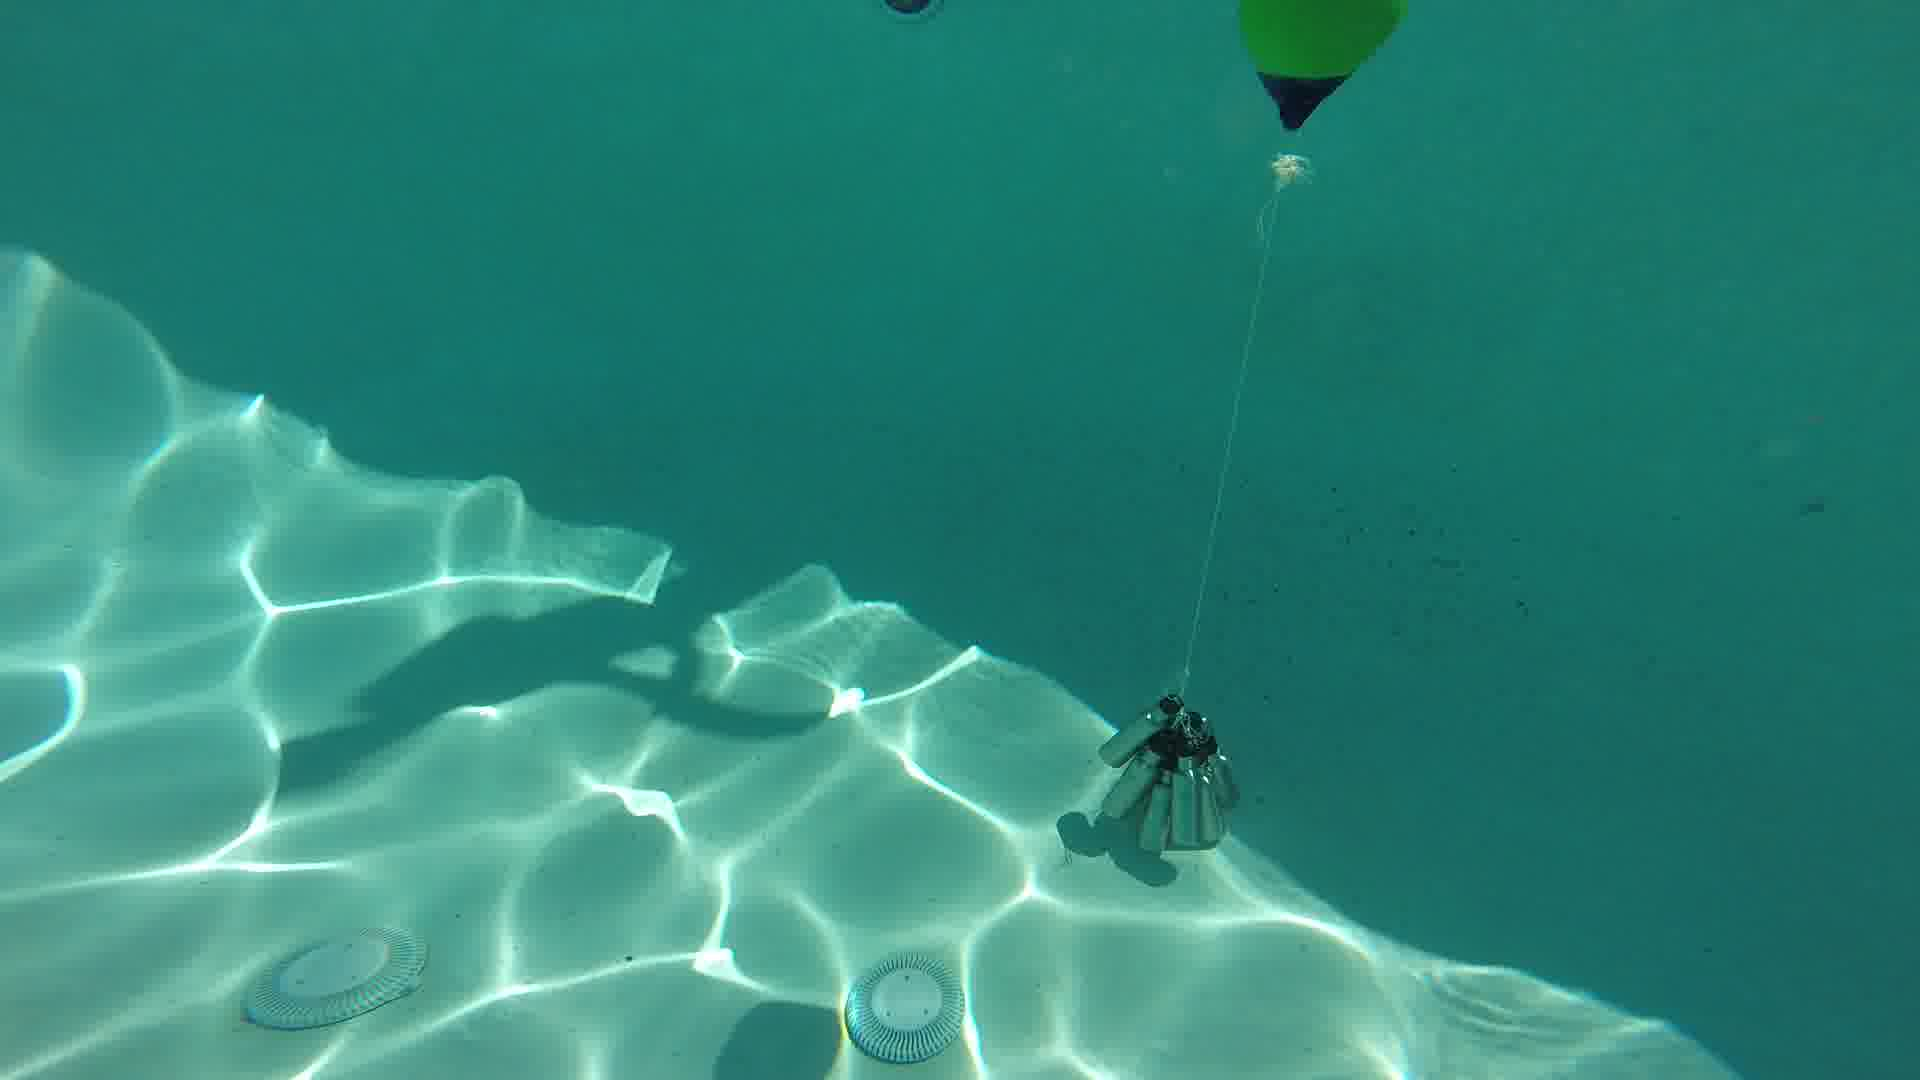yellow_buoy: (1238, 1, 1404, 189)
